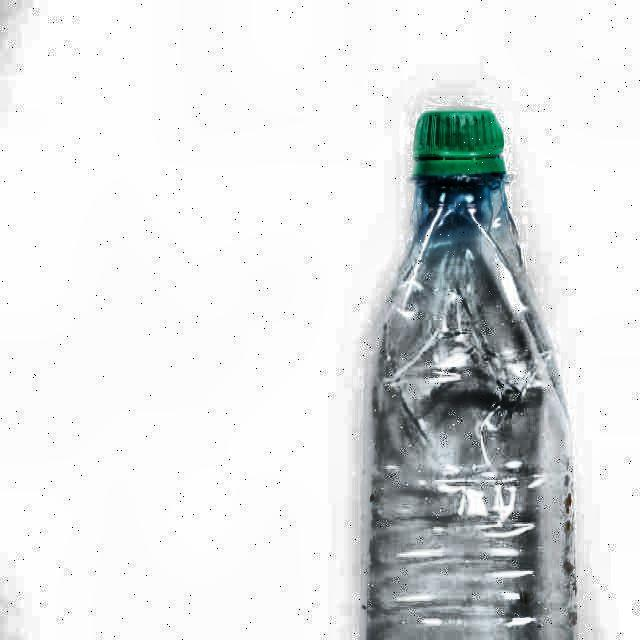plastic: (356, 107, 581, 640)
